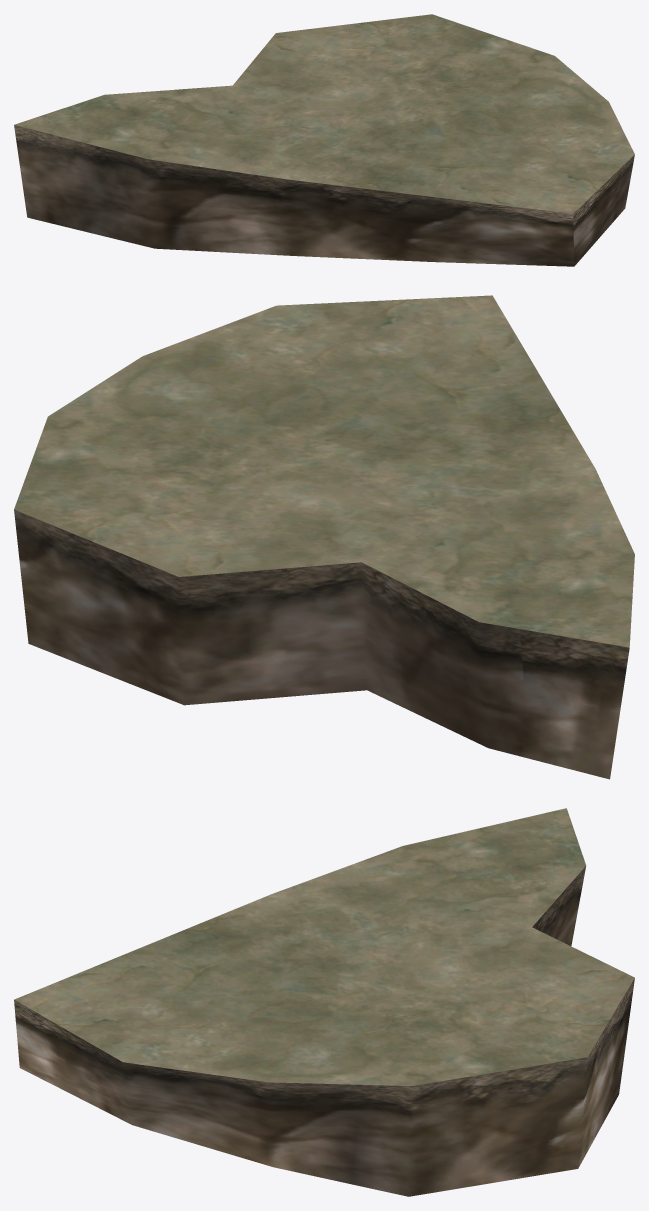
File: ANIMATEDINSTANCES_ROCKFALL_01__BA.fbx
3 views of the same model, one above another, from view 1: azimuth 30°, elevation 25°; view 2: azimuth 150°, elevation 25°; view 3: azimuth 270°, elevation 25° (orthographic). The views are drawn at different scales.
Visible parts, largest first — view 1: ANIMATEDINSTANCES_ROCKFALL_01__BA; view 2: ANIMATEDINSTANCES_ROCKFALL_01__BA; view 3: ANIMATEDINSTANCES_ROCKFALL_01__BA.
Boxes of the visible parts, x1,y1,x2,y2 form: ANIMATEDINSTANCES_ROCKFALL_01__BA: [14, 14, 634, 266]; ANIMATEDINSTANCES_ROCKFALL_01__BA: [14, 295, 634, 779]; ANIMATEDINSTANCES_ROCKFALL_01__BA: [14, 808, 634, 1196].
Bounding box in the file's own units: 25091 × 4850 × 23687.
Materials: 2 (2 with a texture image).
